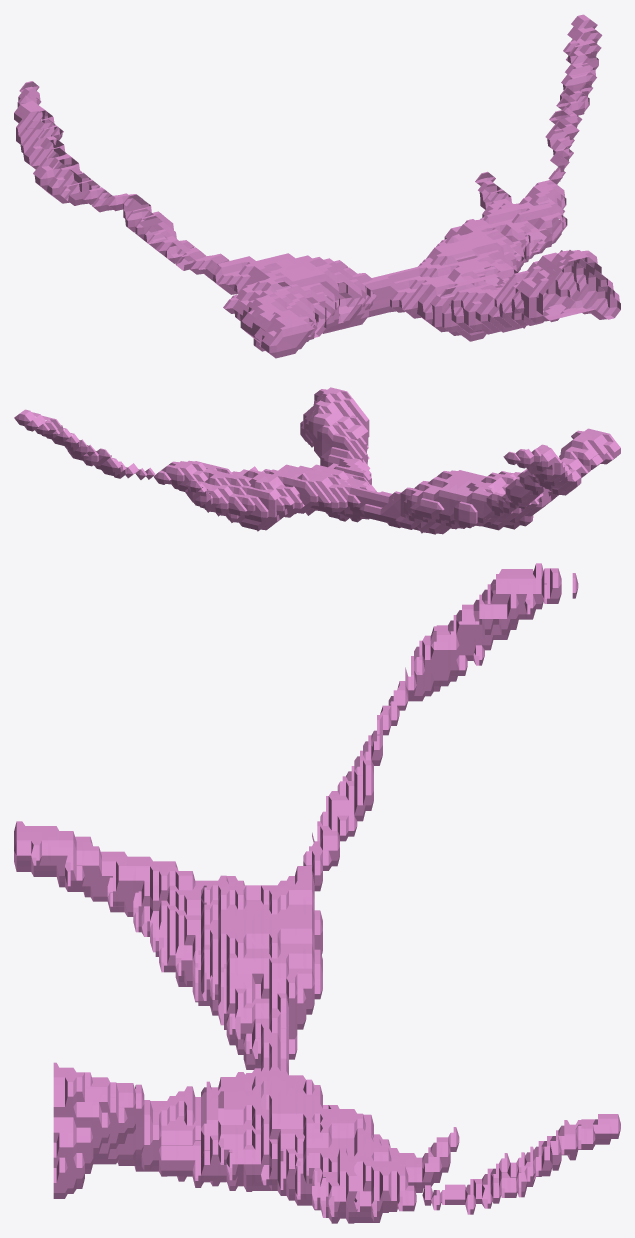
File: SVV_PVCL.gltf
3 renders of one model, top to bottom at view 1: azimuth 30°, elevation 25°; view 2: azimuth 150°, elevation 25°; view 3: azimuth 270°, elevation 25°, orthographic. The views are drawn at different scales.
Visible parts, largest first — view 1: PVCL; view 2: PVCL; view 3: PVCL.
Boxes of the visible parts, x1,y1,x2,y2 form: PVCL: [14, 14, 620, 358]; PVCL: [14, 387, 620, 534]; PVCL: [14, 563, 620, 1223].
Bounding box in the file's own units: 48150 × 18441 × 27403.
